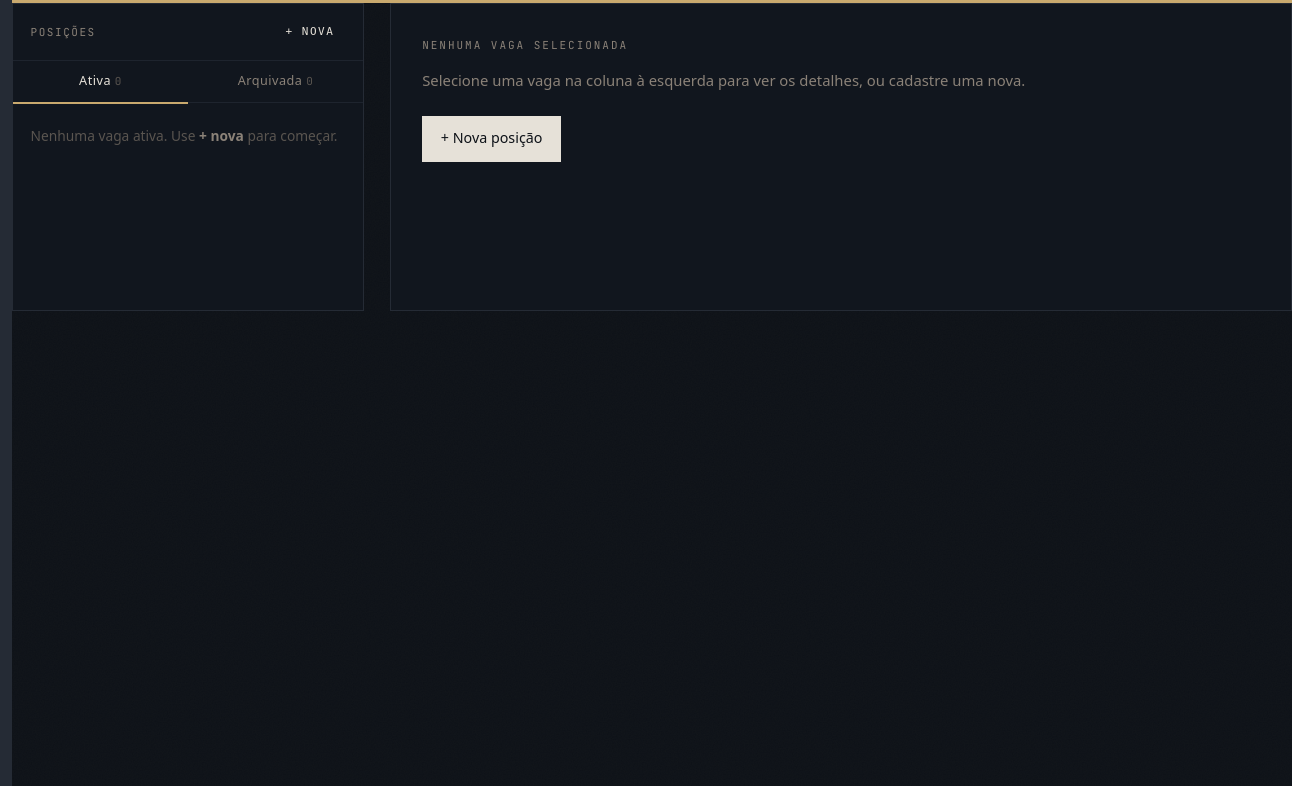
Scenario: PositionsList — new form tabs (PF.2) › troca de aba preserva os dados digitados
Click the button "+ Nova posição" at {"x": 492, "y": 139}, box [422,116,561,162]
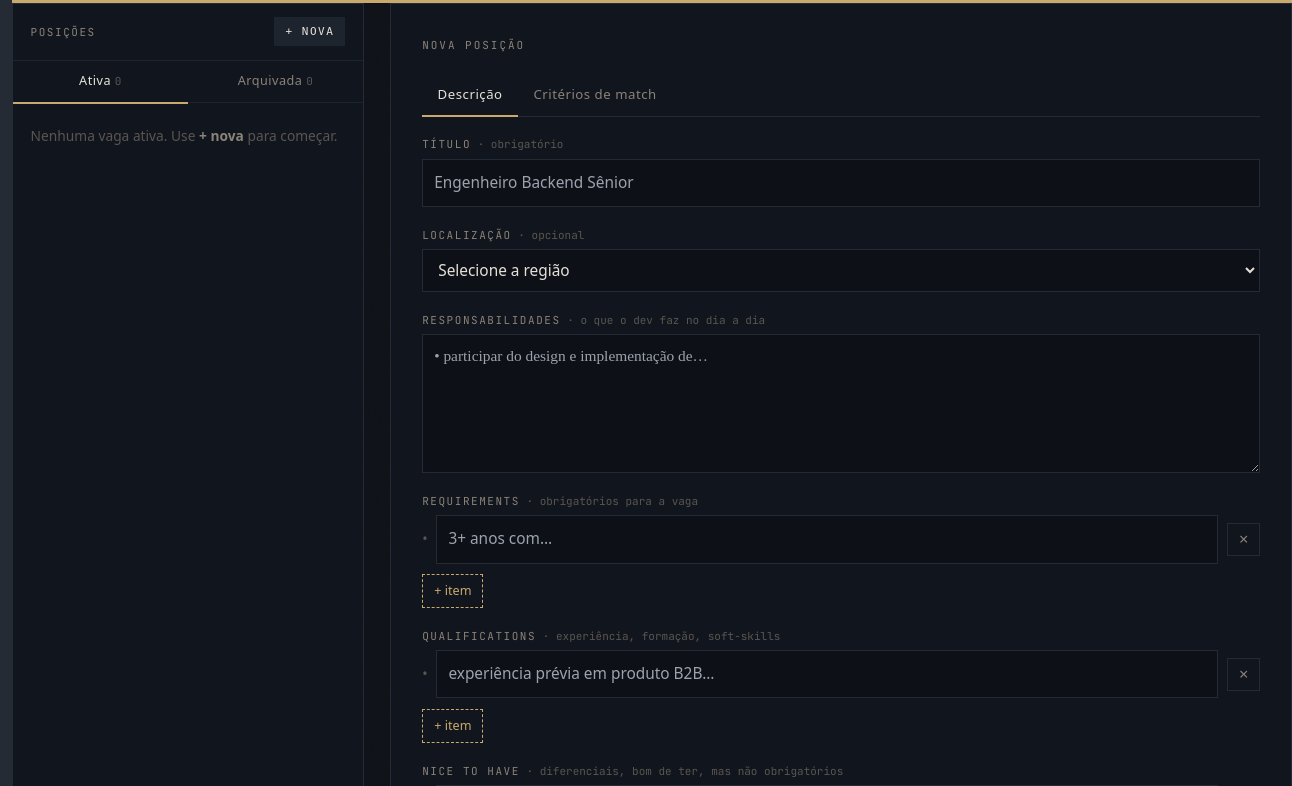
Type "Backend Sênior" into the field with placeholder "Engenheiro Backend Sênior" at {"x": 841, "y": 183}, box [422,159,1260,207]
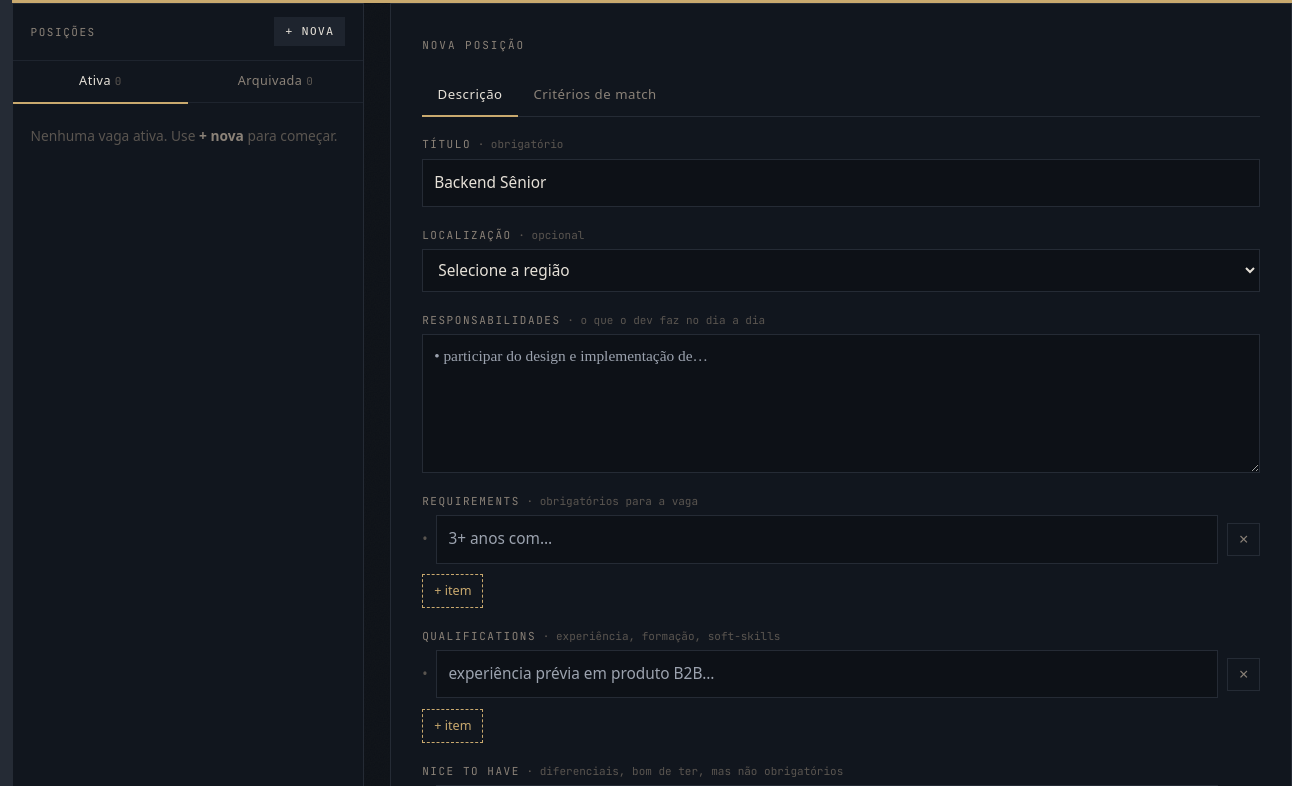
Click the tab "Critérios de match" at {"x": 595, "y": 95}, box [518,73,672,117]
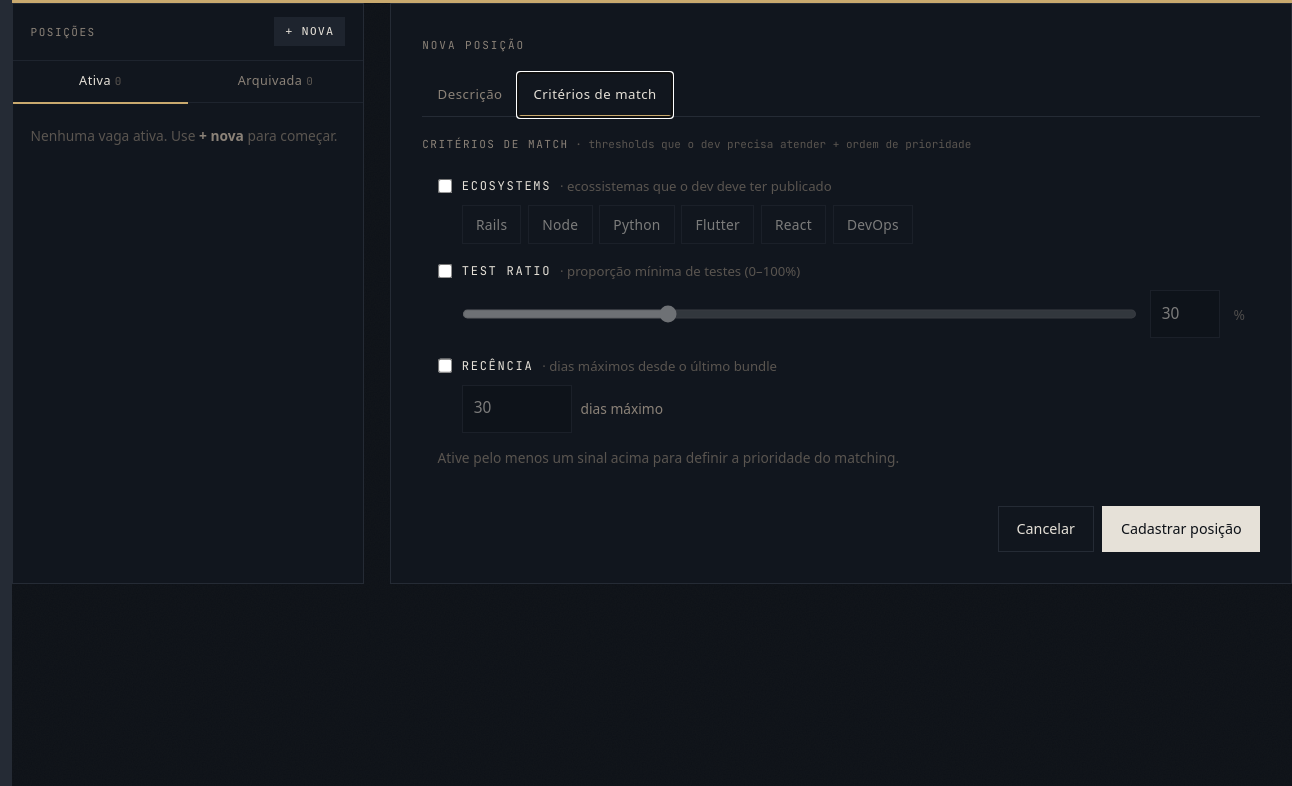
Expected: the field with placeholder "Engenheiro Backend" is not shown
Click the tab "Descrição" at {"x": 470, "y": 95}, box [422,73,518,117]
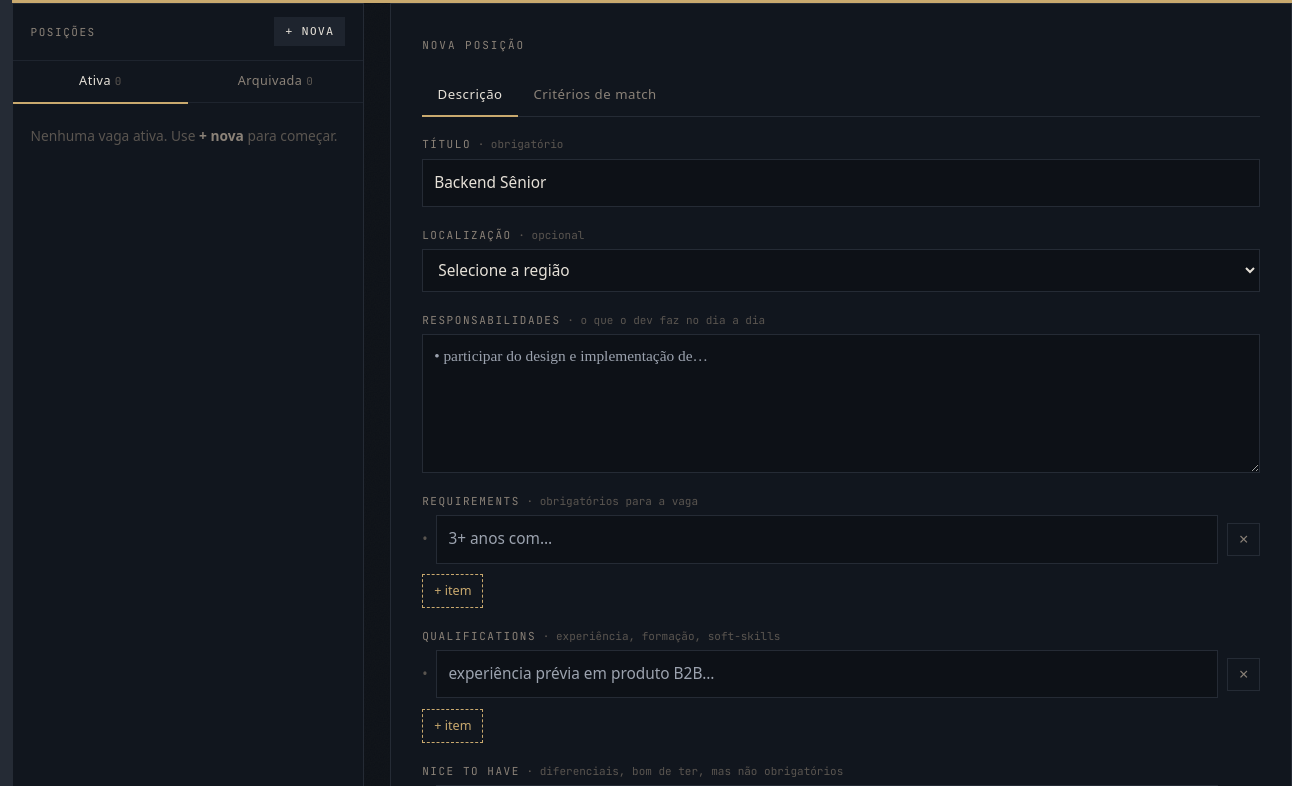
Result: the field with placeholder "Engenheiro Backend Sênior" holds "Backend Sênior" at [422,159,1260,207]
